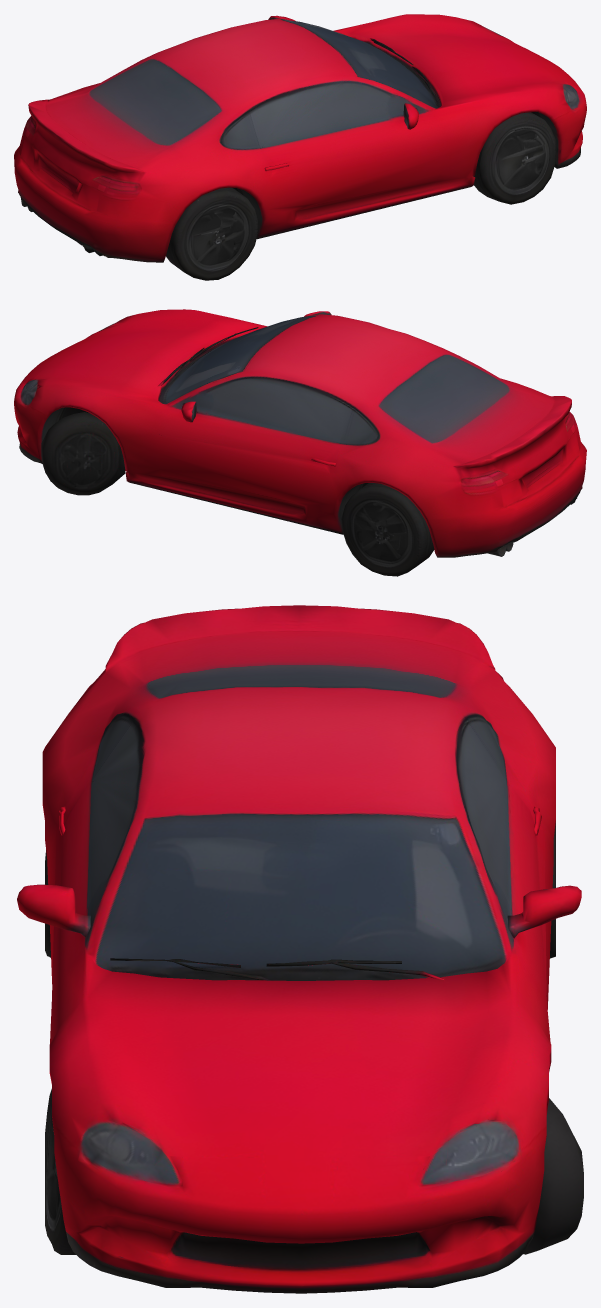
The model's file is horizon-sports-coupe.glb.
3 views of the same model, one above another, from view 1: azimuth 30°, elevation 25°; view 2: azimuth 150°, elevation 25°; view 3: azimuth 270°, elevation 25° (orthographic). The views are drawn at different scales.
Visible parts, largest first — view 1: tripo_node_25500005-03ae-4428-8d5a-27d3daab847c; view 2: tripo_node_25500005-03ae-4428-8d5a-27d3daab847c; view 3: tripo_node_25500005-03ae-4428-8d5a-27d3daab847c.
Part boxes in pixels (x1,y1,x2,y2): tripo_node_25500005-03ae-4428-8d5a-27d3daab847c: (14,14,586,280); tripo_node_25500005-03ae-4428-8d5a-27d3daab847c: (14,309,586,576); tripo_node_25500005-03ae-4428-8d5a-27d3daab847c: (17,605,583,1293).
Bounding box in the file's own units: 0.998 × 0.291 × 0.4746.
1 material, 1 textured.
